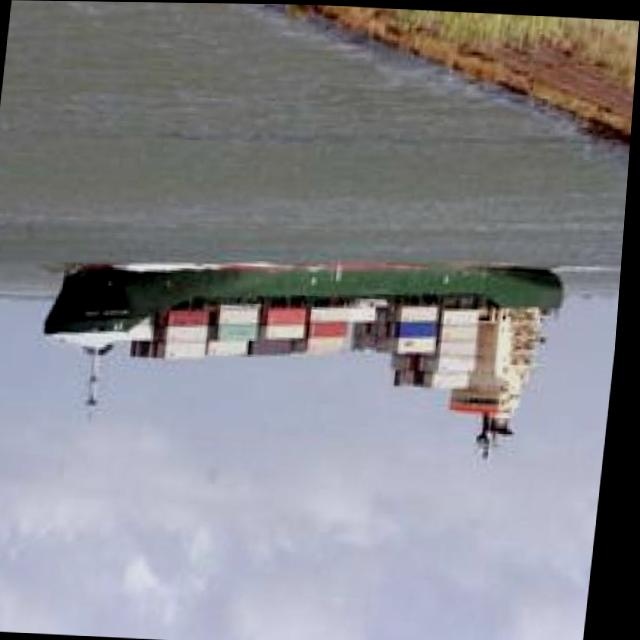ship2: (49, 261, 569, 450)
